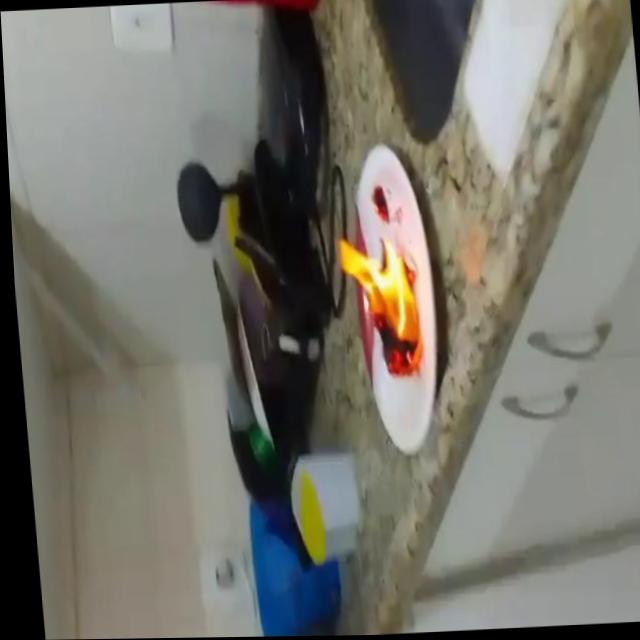Fire: (332, 230, 425, 382)
